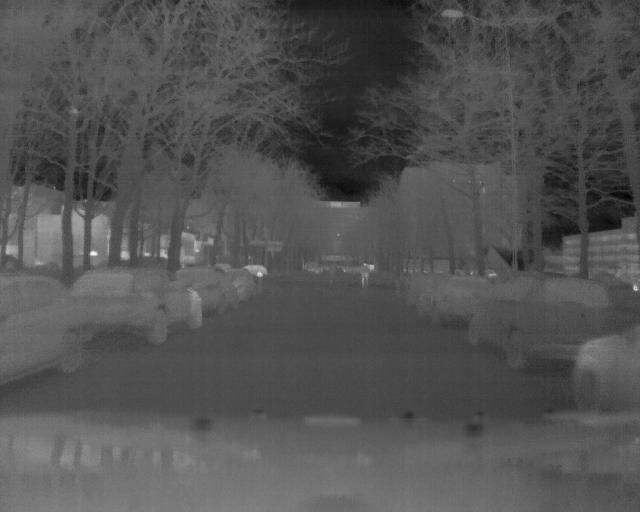car: (467, 266, 573, 371), (1, 275, 90, 381), (94, 264, 206, 344)
person: (359, 258, 374, 292)
